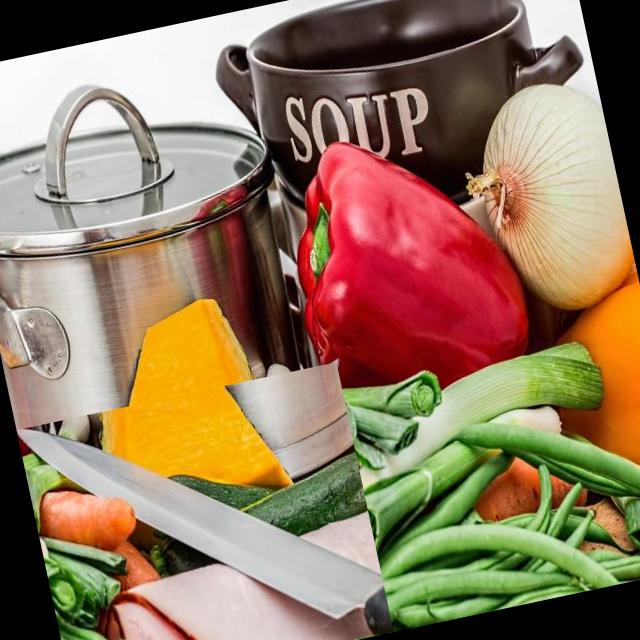Knife: (17, 430, 393, 635)
